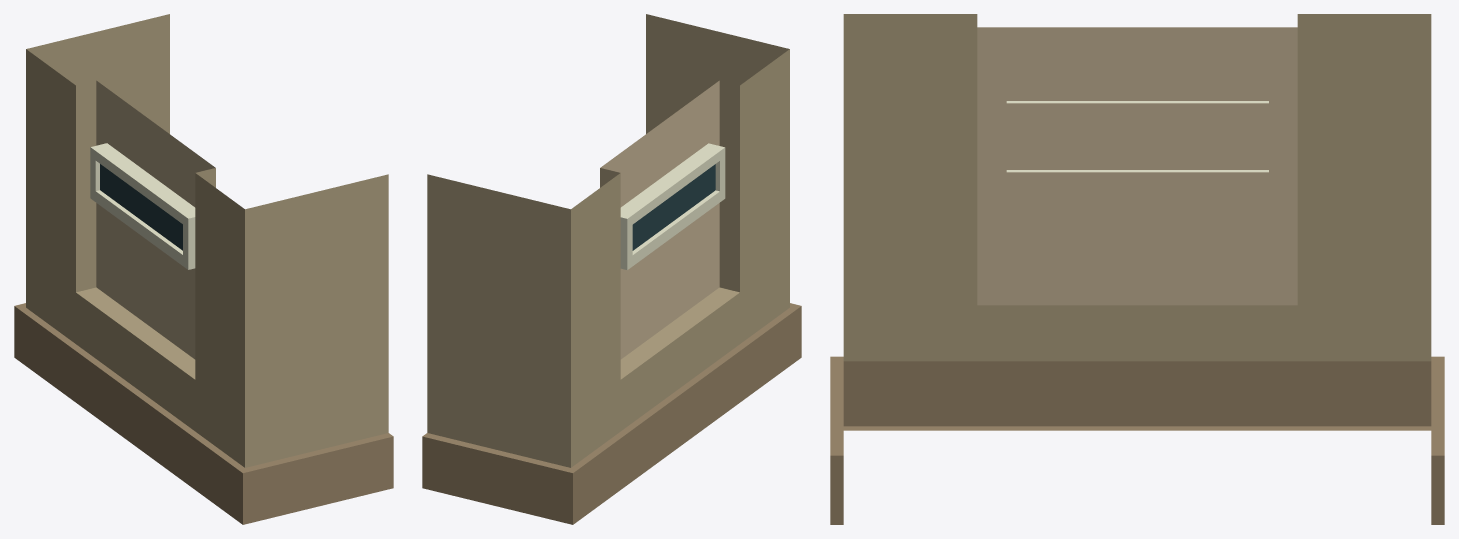
Rendered from apartment_building1_side2_ground.fbx.
The picture shows the model from 3 angles, left to right: view 1: azimuth 30°, elevation 25°; view 2: azimuth 150°, elevation 25°; view 3: azimuth 270°, elevation 25°; orthographic projection. The views are drawn at different scales.
Visible parts, largest first — view 1: apartment_building1_side2_ground; view 2: apartment_building1_side2_ground; view 3: apartment_building1_side2_ground.
Part boxes in pixels (<box>): apartment_building1_side2_ground: <box>14,14,393,524</box>; apartment_building1_side2_ground: <box>422,14,801,524</box>; apartment_building1_side2_ground: <box>830,14,1444,524</box>.
Size of the model in its own units: 152 by 300 by 401.
